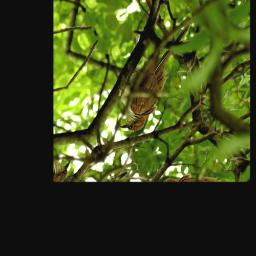Cuckoo: (98, 21, 219, 141)
